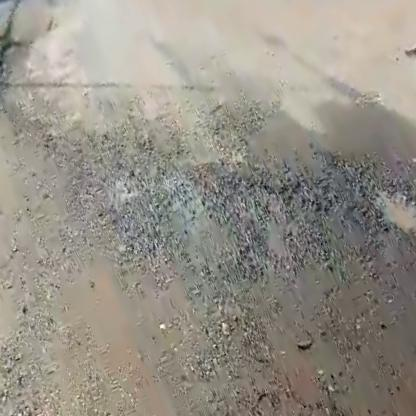pothole: (362, 164, 416, 251)
